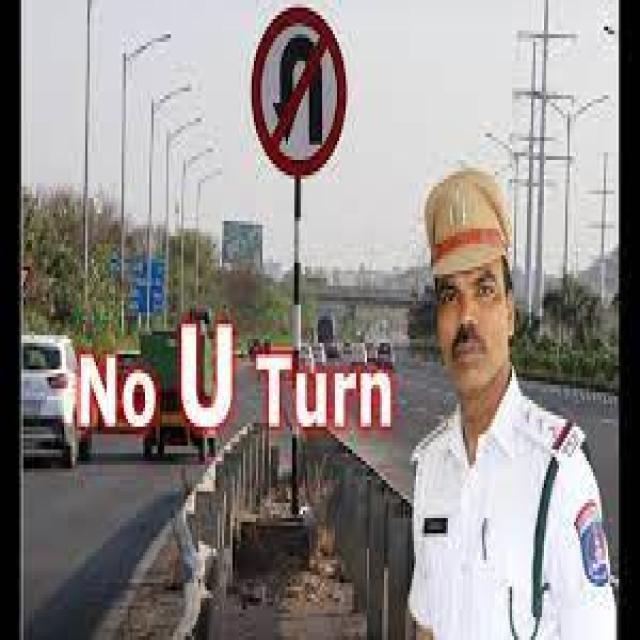u turn prohibited: (255, 13, 346, 173)
